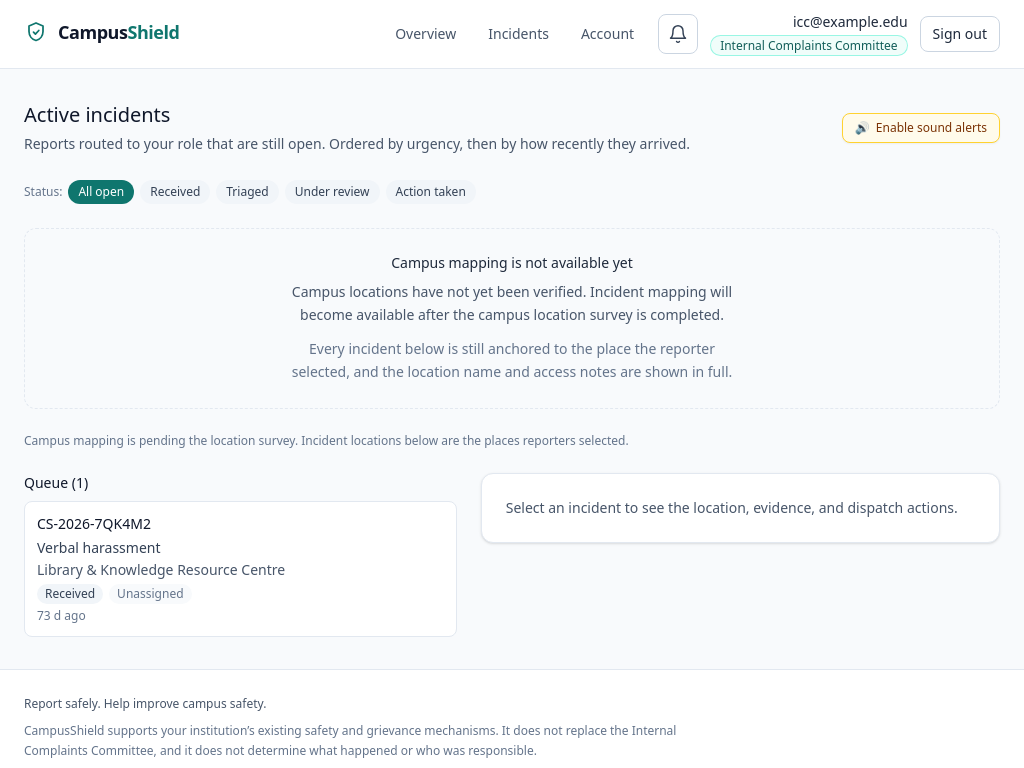
Test: IncidentsPage — incident detail › displays GPS emergency details with coordinates, accuracy and capture time
Step 1. Click the button "CS-2026-7QK4M2" → {"x": 240, "y": 569}, box [24,501,457,637]
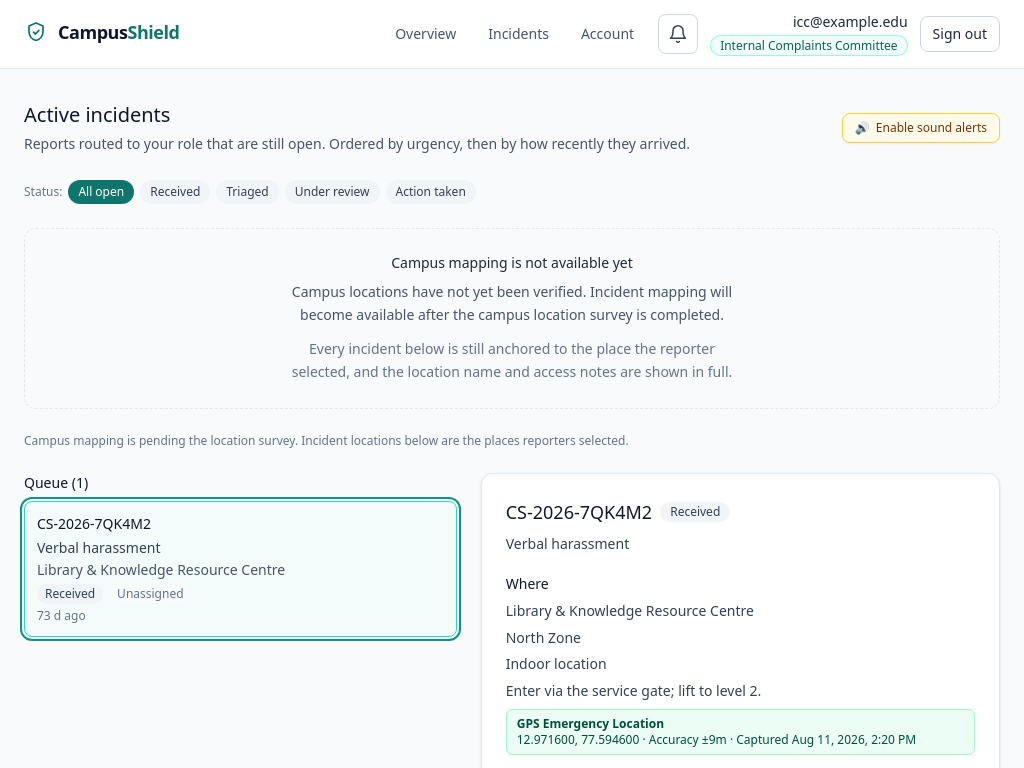
Expected: the element with test id "gps-emergency-details" shows "12.971600, 77.594600", [506,709,975,755]
Expected: the element with test id "gps-emergency-details" shows "Accuracy ±9m", [506,709,975,755]
